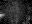person: (1, 13, 7, 18)
